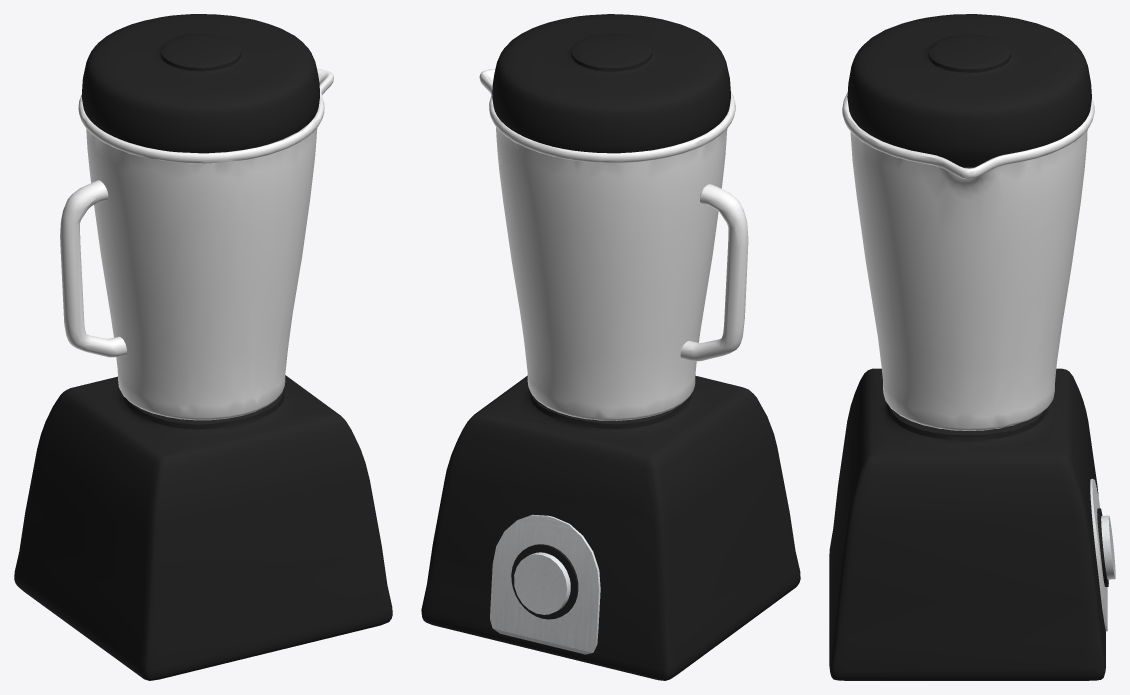
The model's file is BLender.fbx.
3 renders of one model, left to right at view 1: azimuth 30°, elevation 25°; view 2: azimuth 150°, elevation 25°; view 3: azimuth 270°, elevation 25°, orthographic. The views are drawn at different scales.
Parts seen in each view (by area): view 1: Blender.001, Blender, Blender.008; view 2: Blender.001, Blender, Blender.008, Blender.011; view 3: Blender.001, Blender, Blender.008, Blender.011.
Boxes of the visible parts, left/top/right/bottom form: Blender.001: left=14, top=375, right=392, bottom=680; Blender: left=60, top=69, right=333, bottom=420; Blender.008: left=81, top=14, right=319, bottom=153; Blender.001: left=421, top=375, right=800, bottom=680; Blender: left=479, top=69, right=748, bottom=420; Blender.008: left=492, top=14, right=730, bottom=153; Blender.011: left=514, top=552, right=570, bottom=614; Blender.001: left=829, top=368, right=1108, bottom=680; Blender: left=842, top=93, right=1094, bottom=430; Blender.008: left=847, top=14, right=1091, bottom=168; Blender.011: left=1101, top=515, right=1115, bottom=579.
Bounding box in the file's own units: 202 × 401 × 182.
